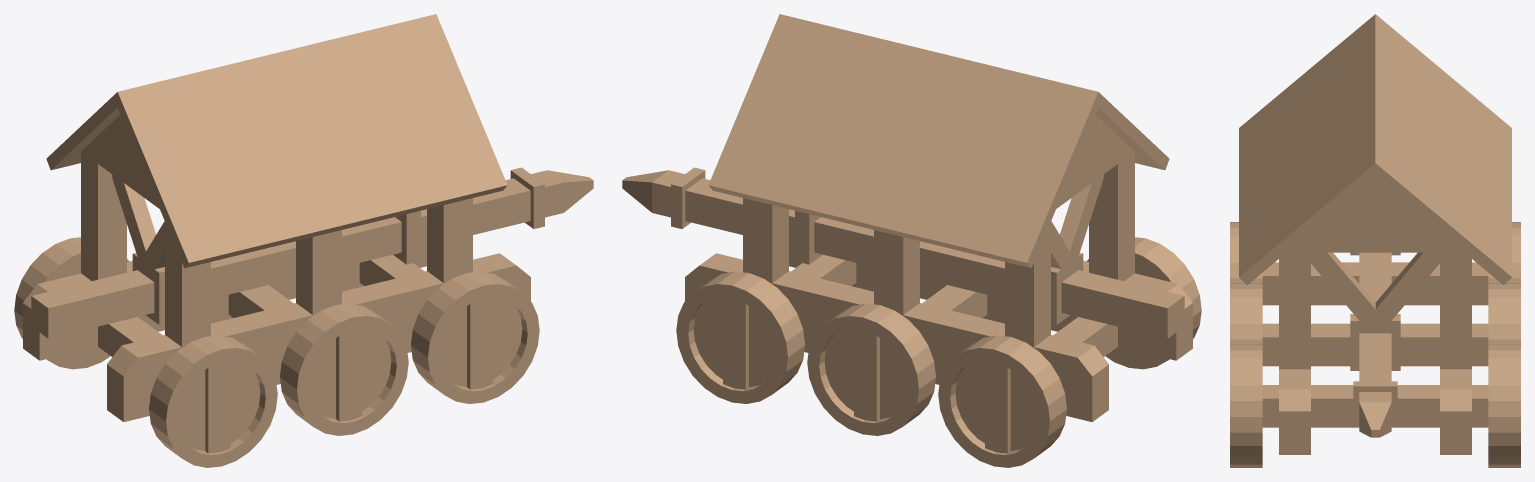
Rendered from siegeram.glb.
3 views of the same model, side by side, from view 1: azimuth 30°, elevation 25°; view 2: azimuth 150°, elevation 25°; view 3: azimuth 270°, elevation 25° (orthographic). The views are drawn at different scales.
Parts seen in each view (by area): view 1: body 7, ram 1, wheelBackRight 9, wheelFrontRight 12, wheelMidRight 2, wheelBackLeft 9; view 2: body 7, ram 1, wheelBackLeft 9, wheelFrontLeft 12, wheelMidLeft 2, wheelBackRight 9; view 3: body 7, ram 1, wheelFrontLeft 12, wheelFrontRight 12, wheelMidLeft 2, wheelMidRight 2, wheelBackLeft 9, wheelBackRight 9.
Part boxes in pixels (x1,y1,x2,y2): body 7: (23, 14, 530, 421); ram 1: (31, 167, 593, 338); wheelBackRight 9: (149, 335, 277, 467); wheelFrontRight 12: (411, 271, 539, 403); wheelMidRight 2: (280, 303, 408, 435); wheelBackLeft 9: (14, 237, 129, 369); body 7: (685, 14, 1192, 421); ram 1: (622, 167, 1184, 338); wheelBackLeft 9: (938, 335, 1066, 467); wheelFrontLeft 12: (676, 271, 804, 403); wheelMidLeft 2: (807, 303, 935, 435); wheelBackRight 9: (1086, 237, 1201, 369); body 7: (1239, 14, 1511, 454); ram 1: (1353, 252, 1397, 437); wheelFrontLeft 12: (1488, 344, 1520, 467); wheelFrontRight 12: (1230, 344, 1262, 467); wheelMidLeft 2: (1488, 283, 1520, 344); wheelMidRight 2: (1230, 283, 1262, 344); wheelBackLeft 9: (1488, 222, 1520, 283); wheelBackRight 9: (1230, 222, 1262, 283).
Size of the model in its own units: 19.87 by 11.22 by 9.47.
